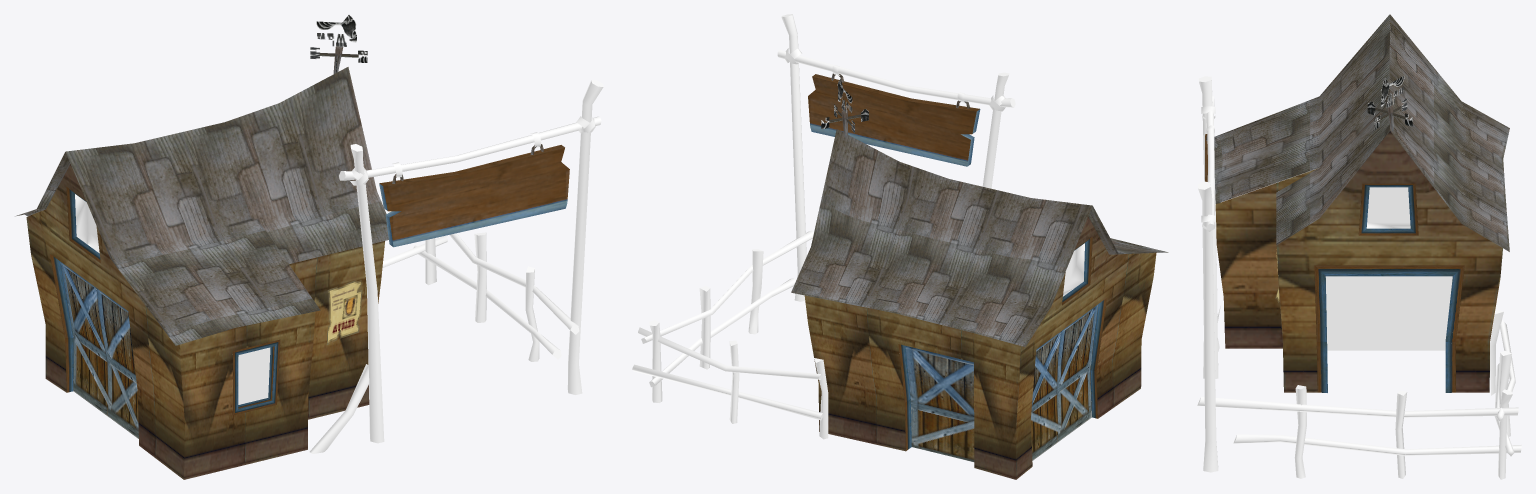
3 renders of one model, left to right at view 1: azimuth 30°, elevation 25°; view 2: azimuth 150°, elevation 25°; view 3: azimuth 270°, elevation 25°, orthographic. The views are drawn at different scales.
Visible parts, largest first — view 1: roof, walls, sign_sills, fence, doors, poster, window, insides, weathervane, rope; view 2: roof, walls, fence, doors, sign_sills, insides; view 3: roof, walls, fence, insides, sign_sills, weathervane.
Boxes of the visible parts, bbox=[...] form: roof: bbox=[15, 67, 543, 345]; walls: bbox=[26, 164, 384, 479]; sign_sills: bbox=[50, 145, 569, 415]; fence: bbox=[309, 80, 603, 453]; doors: bbox=[60, 261, 138, 438]; poster: bbox=[326, 280, 362, 344]; window: bbox=[238, 347, 270, 404]; insides: bbox=[75, 194, 99, 253]; weathervane: bbox=[316, 14, 356, 46]; rope: bbox=[350, 116, 595, 185]; roof: bbox=[791, 73, 1168, 347]; walls: bbox=[804, 217, 1156, 479]; fence: bbox=[632, 14, 1015, 439]; doors: bbox=[905, 304, 1098, 461]; sign_sills: bbox=[808, 74, 1107, 450]; insides: bbox=[1063, 243, 1084, 296]; roof: bbox=[1206, 14, 1509, 251]; walls: bbox=[1215, 131, 1502, 392]; fence: bbox=[1197, 76, 1521, 479]; insides: bbox=[1325, 187, 1452, 352]; sign_sills: bbox=[1205, 134, 1464, 392]; weathervane: bbox=[1381, 76, 1404, 108].
Bounding box in the file's own units: 644 × 482 × 425.
12 materials, 8 textured.
